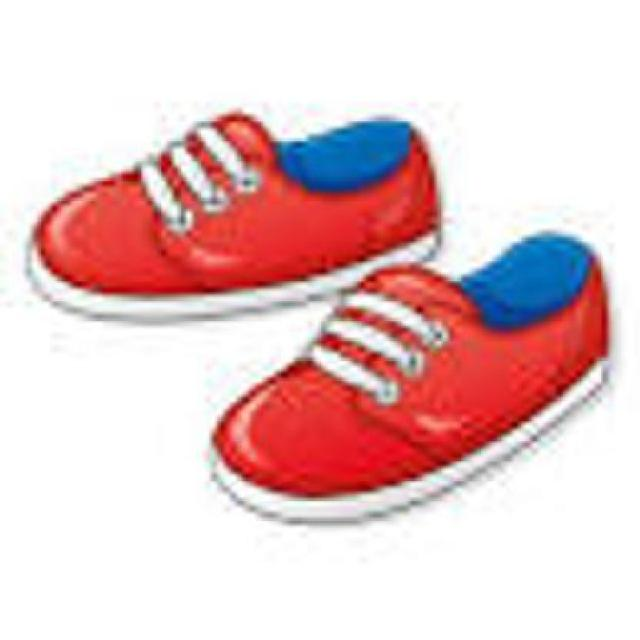not trash: (195, 230, 612, 518), (27, 102, 439, 324)
